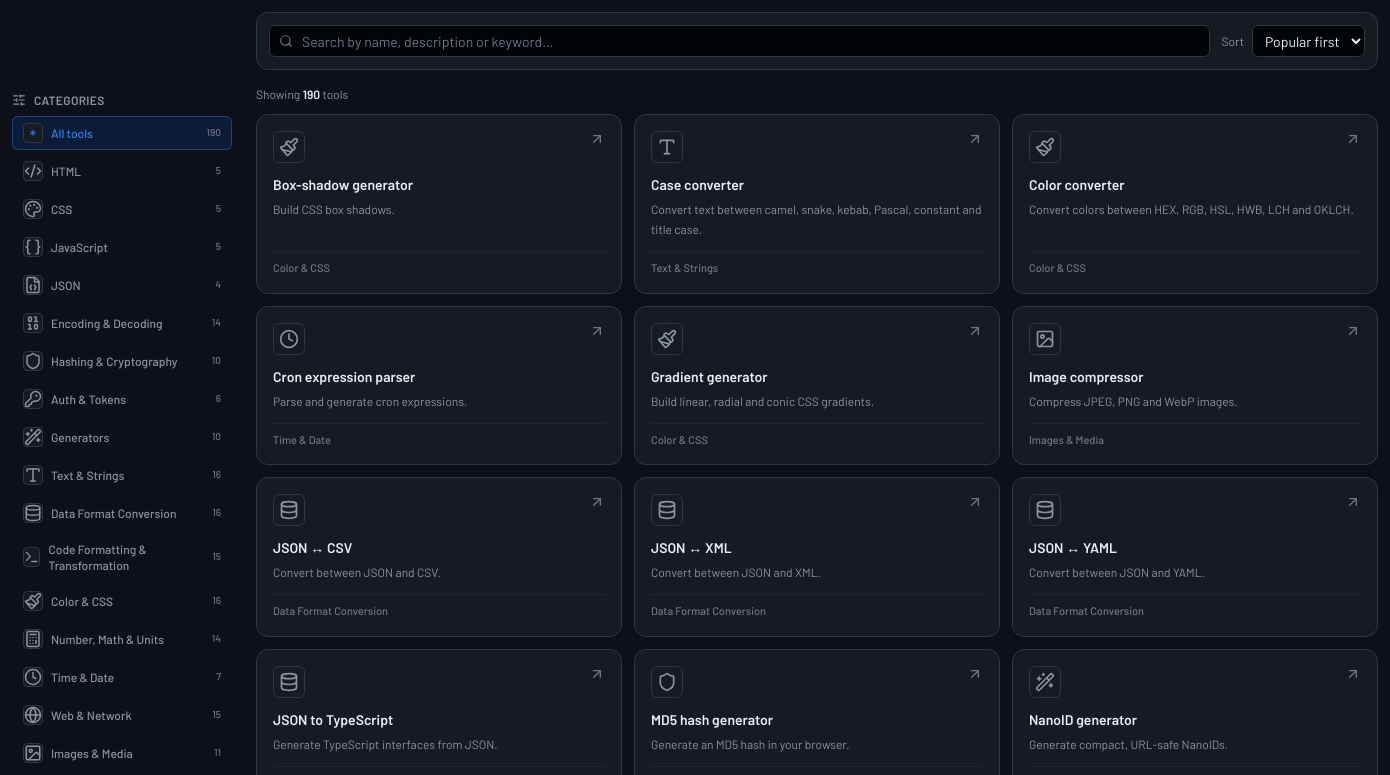
Test: ToolsDirectory › shows an empty state for an unmatched search
In the search field named "Search tools": (739,41) [269,25,1210,57], type "this-tool-does-not-exist"
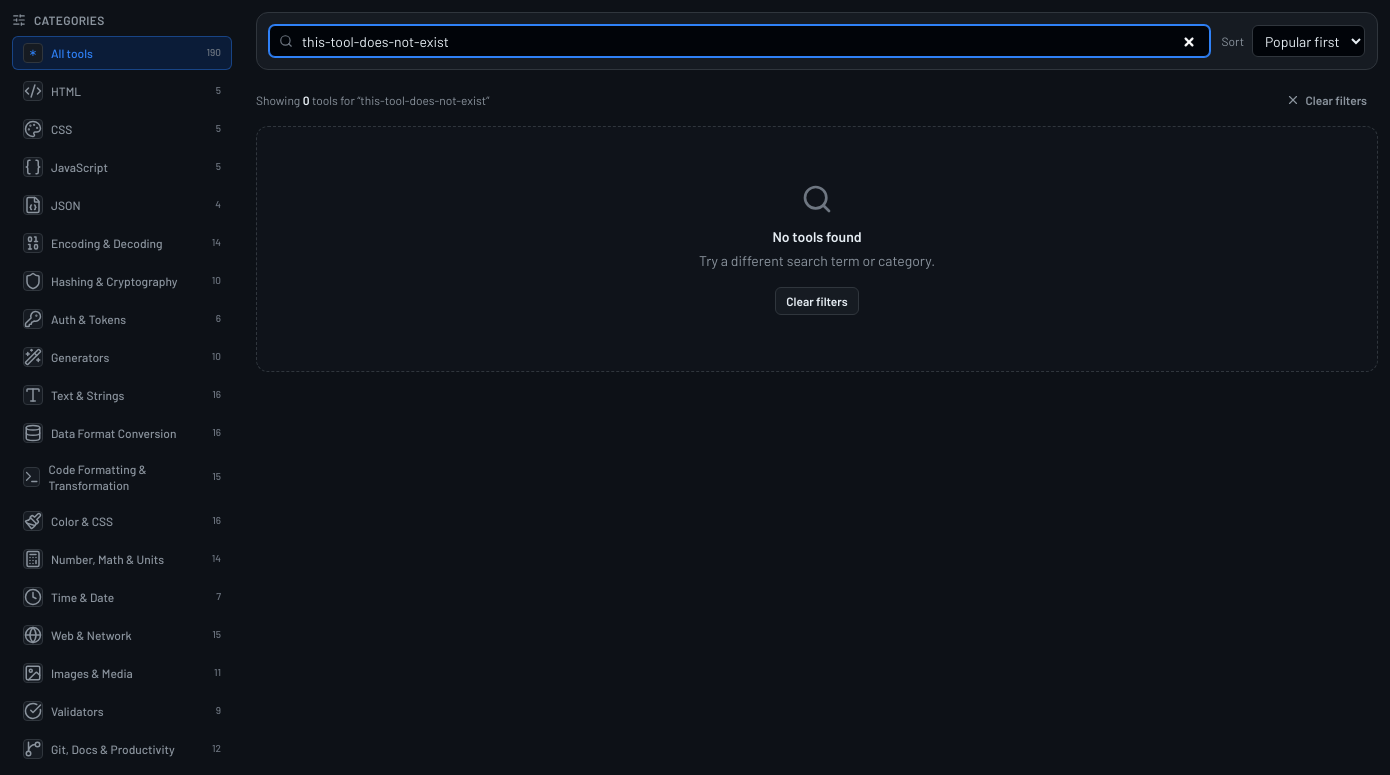
Expected: the heading "No tools found" is shown, [772,227,862,247]
